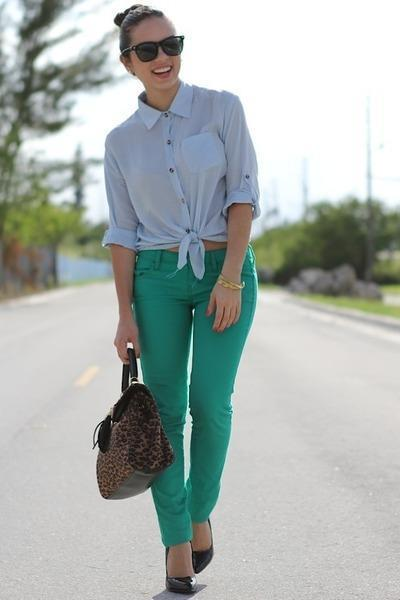bag: (93, 339, 173, 499)
pants: (127, 249, 274, 552)
shirt: (84, 84, 259, 275)
shoe: (166, 543, 213, 597)
sunglass: (132, 35, 183, 61)
